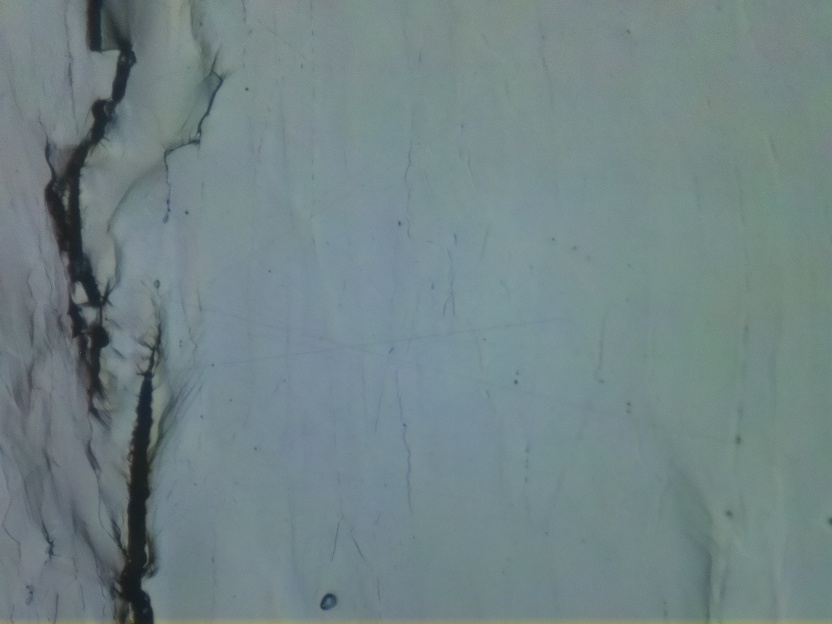crack: (46, 0, 138, 430), (116, 333, 166, 624), (162, 48, 226, 210)
